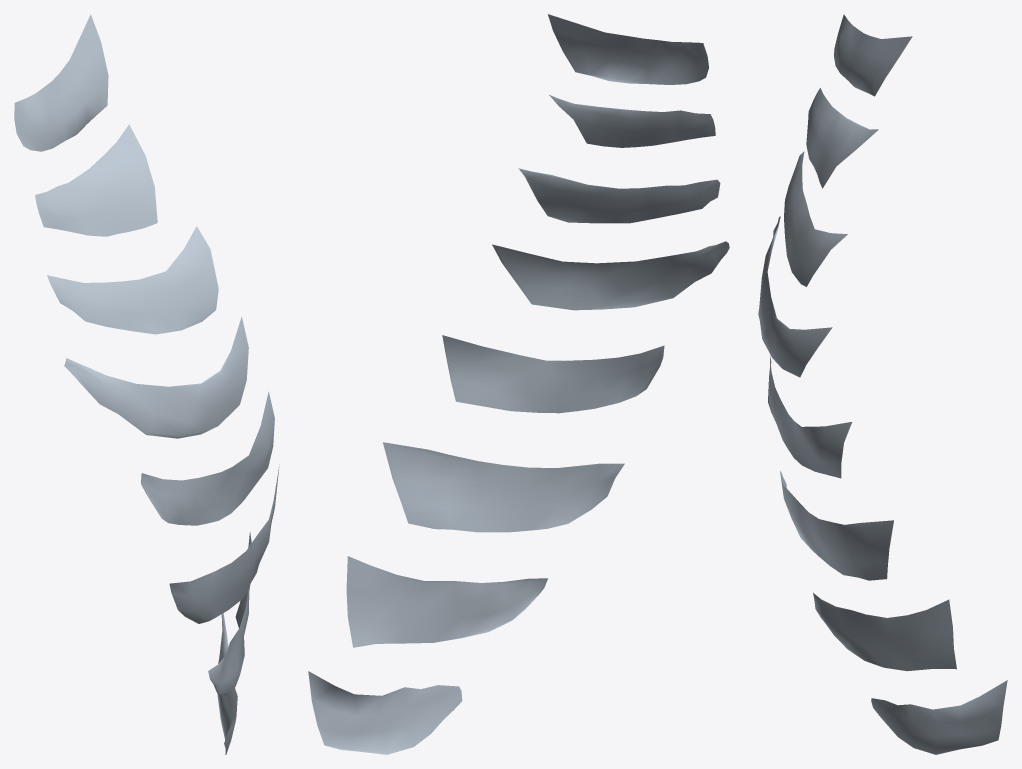
The model's file is external-intercostal-membrane-l.glb.
3 views of the same model, side by side, from view 1: azimuth 30°, elevation 25°; view 2: azimuth 150°, elevation 25°; view 3: azimuth 270°, elevation 25° (orthographic). The views are drawn at different scales.
Parts seen in each view (by area): view 1: External intercostal membrane.l; view 2: External intercostal membrane.l; view 3: External intercostal membrane.l.
Part boxes in pixels (box(x1,y1,x2,y2)): External intercostal membrane.l: box(14, 14, 279, 754); External intercostal membrane.l: box(308, 14, 729, 754); External intercostal membrane.l: box(758, 14, 1007, 754).
Size of the model in its own units: 0.1143 by 0.2775 by 0.0955.
